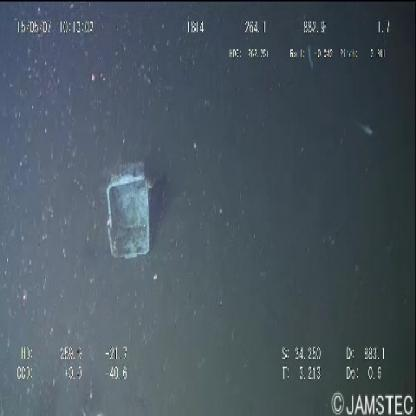Rác: (96, 152, 161, 266)
